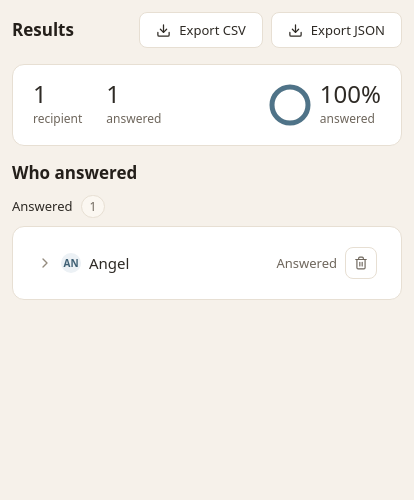
Test case: QuestionnaireResults › an analyzed STANDARD send shows the Insight excerpt inline with a Memory deep-link (§20.8)
Click the button with aria-label "Expand ".
click(153, 263)  # box top-left (37, 253), bottom-right (268, 273)
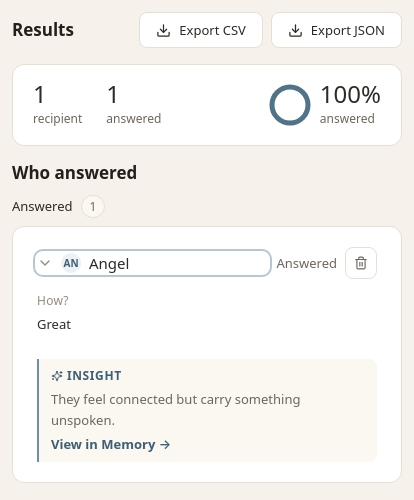
Now the text "They feel connected but carry something unspoken." is shown, box top-left (51, 390), bottom-right (300, 429)
Now the text "Insight" is shown, box top-left (51, 367), bottom-right (122, 384)
Now the button "View in Memory →" is shown, box top-left (51, 435), bottom-right (171, 454)
